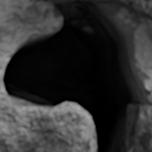brick: (85, 0, 151, 18), (44, 0, 71, 2)
broken_brick: (0, 91, 93, 151), (134, 103, 151, 151)
crack: (2, 0, 149, 151)
